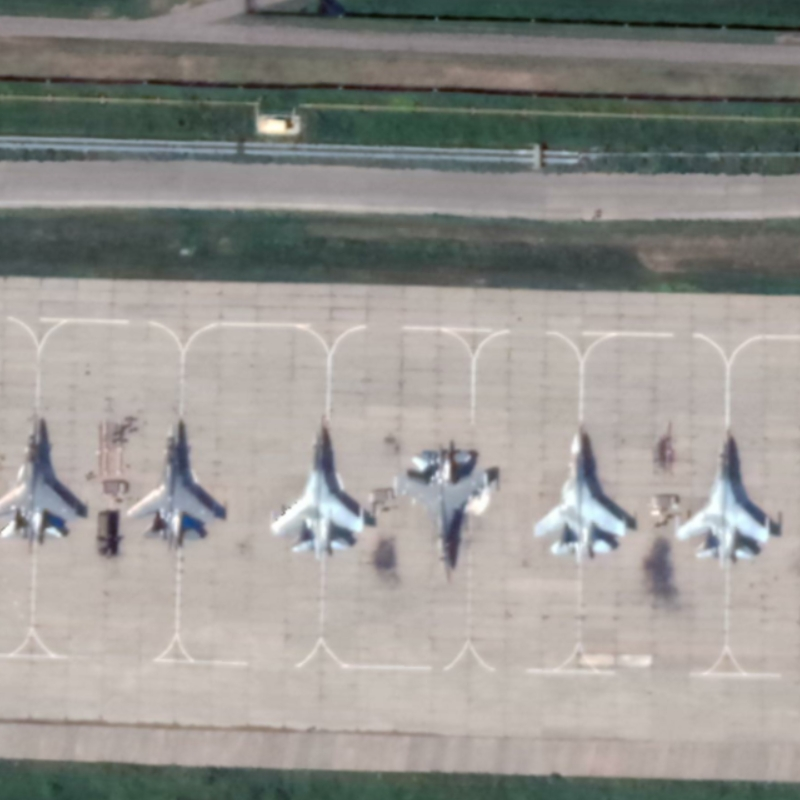A1: (264, 411, 368, 565), (393, 440, 498, 587), (671, 424, 774, 573), (528, 418, 630, 566), (121, 419, 220, 554), (1, 416, 80, 548)
